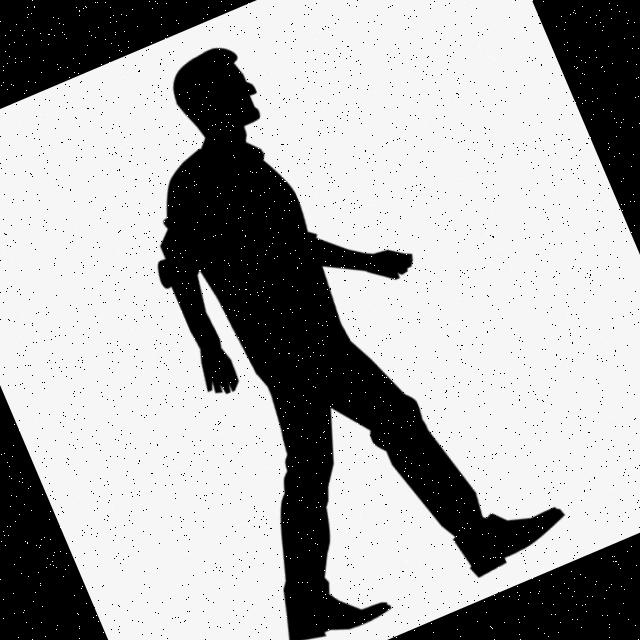Person: (62, 0, 576, 640)
